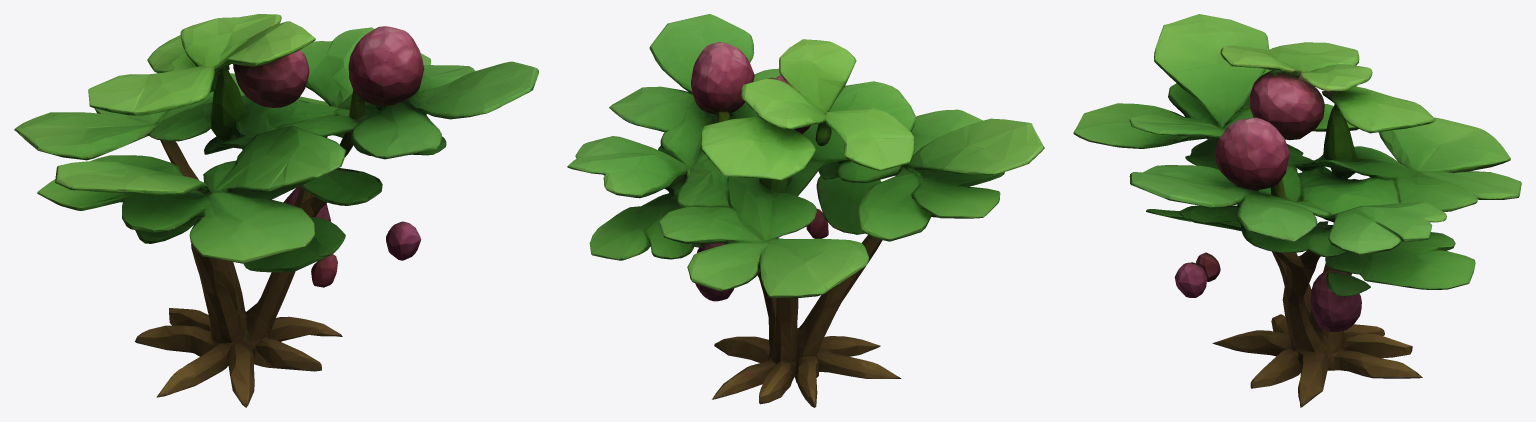
The model's file is dewberry.glb.
The picture shows the model from 3 angles, left to right: view 1: azimuth 30°, elevation 25°; view 2: azimuth 150°, elevation 25°; view 3: azimuth 270°, elevation 25°; orthographic projection. The views are drawn at different scales.
Visible parts, largest first — view 1: world; view 2: world; view 3: world.
Part boxes in pixels (x1,y1,x2,y2): world: [14, 14, 538, 407]; world: [567, 14, 1044, 407]; world: [1073, 14, 1521, 407].
Bounding box in the file's own units: 1 × 0.7351 × 0.9334.
Materials: 1 (1 with a texture image).
